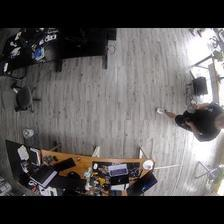normal: (155, 99, 224, 143)
